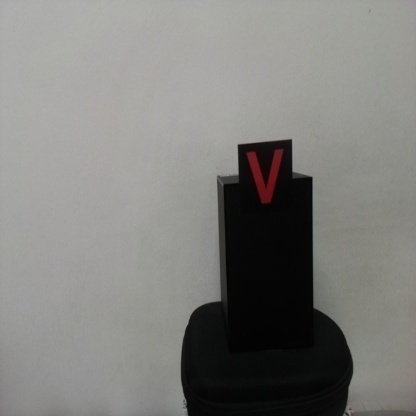id_11: (238, 146, 292, 213)
